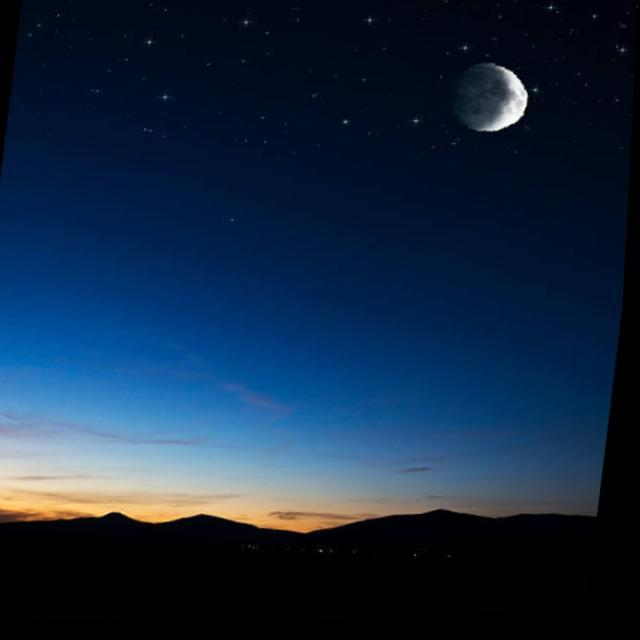moon: (426, 55, 553, 156)
